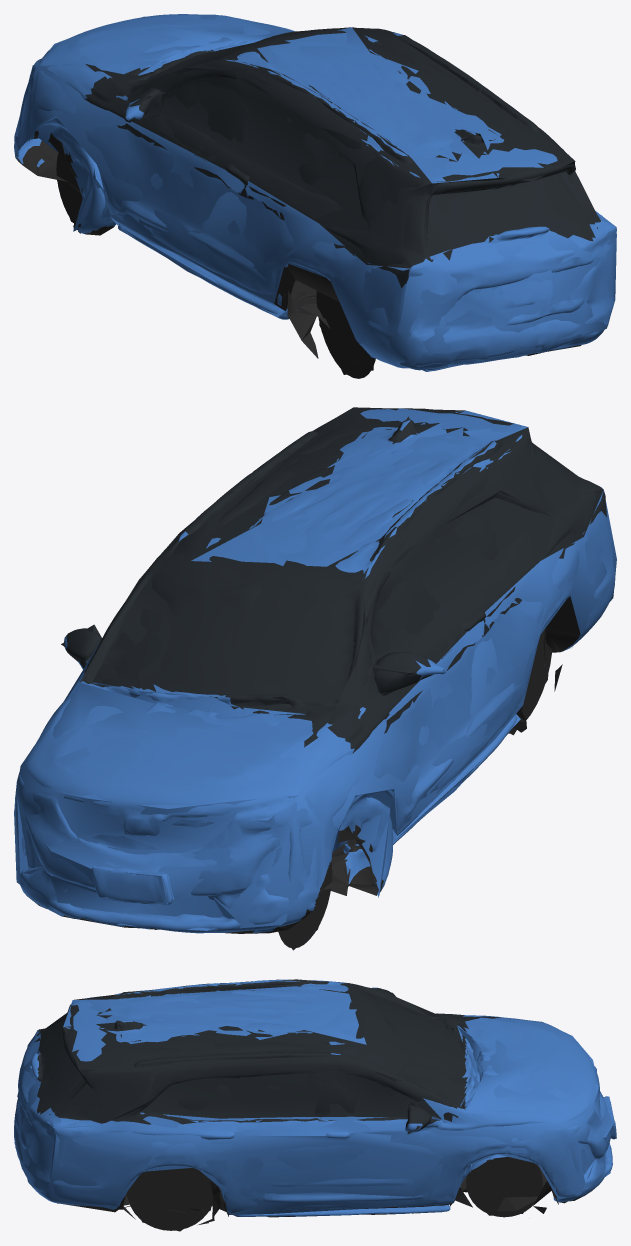
File: cadillac-xt6.glb
The picture shows the model from 3 angles, top to bottom: view 1: azimuth 30°, elevation 25°; view 2: azimuth 150°, elevation 25°; view 3: azimuth 270°, elevation 25°; orthographic projection. The views are drawn at different scales.
Parts seen in each view (by area): view 1: body, far; view 2: body, far; view 3: body, far.
Part boxes in pixels (x1=…): body: x1=14, y1=14, x2=616, y2=378; far: x1=14, y1=14, x2=616, y2=374; body: x1=14, y1=408, x2=615, y2=947; far: x1=14, y1=407, x2=616, y2=950; body: x1=14, y1=979, x2=616, y2=1230; far: x1=14, y1=979, x2=616, y2=1231.
Size of the model in its own units: 2.36 by 1.82 by 5.13.
